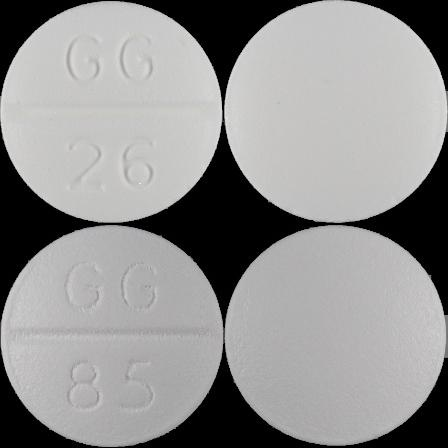0781-1556: (0, 0, 224, 224)
